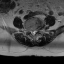CCS_normal: (33, 29, 34, 37)
LFS_severe_stenosis: (37, 26, 39, 33)
LLS_normal: (34, 29, 36, 35)
RFS_stenosis: (28, 28, 31, 34)
RLS_normal: (31, 29, 33, 36)
